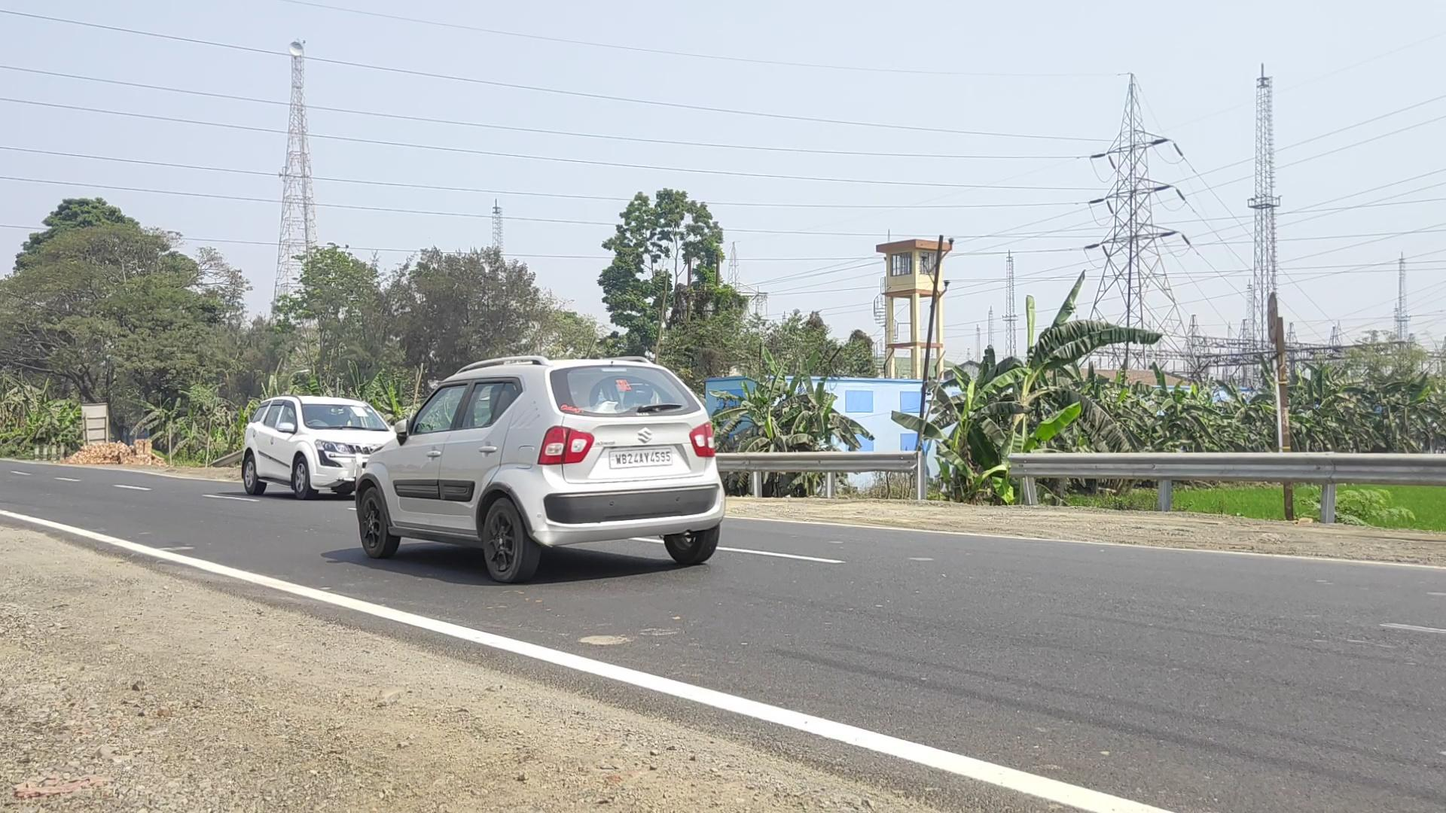car: (356, 355, 725, 586), (239, 396, 409, 501)
